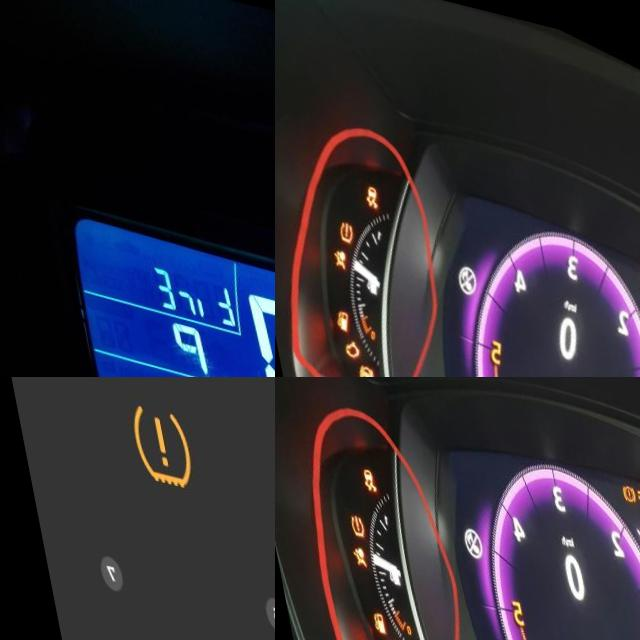Low fuel level: (320, 303, 340, 330), (356, 605, 371, 631)
